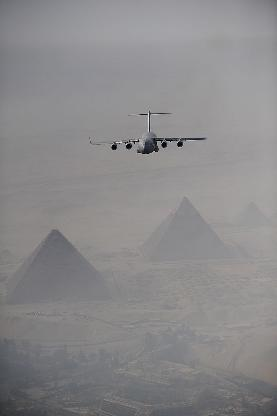C2: (89, 110, 206, 154)
